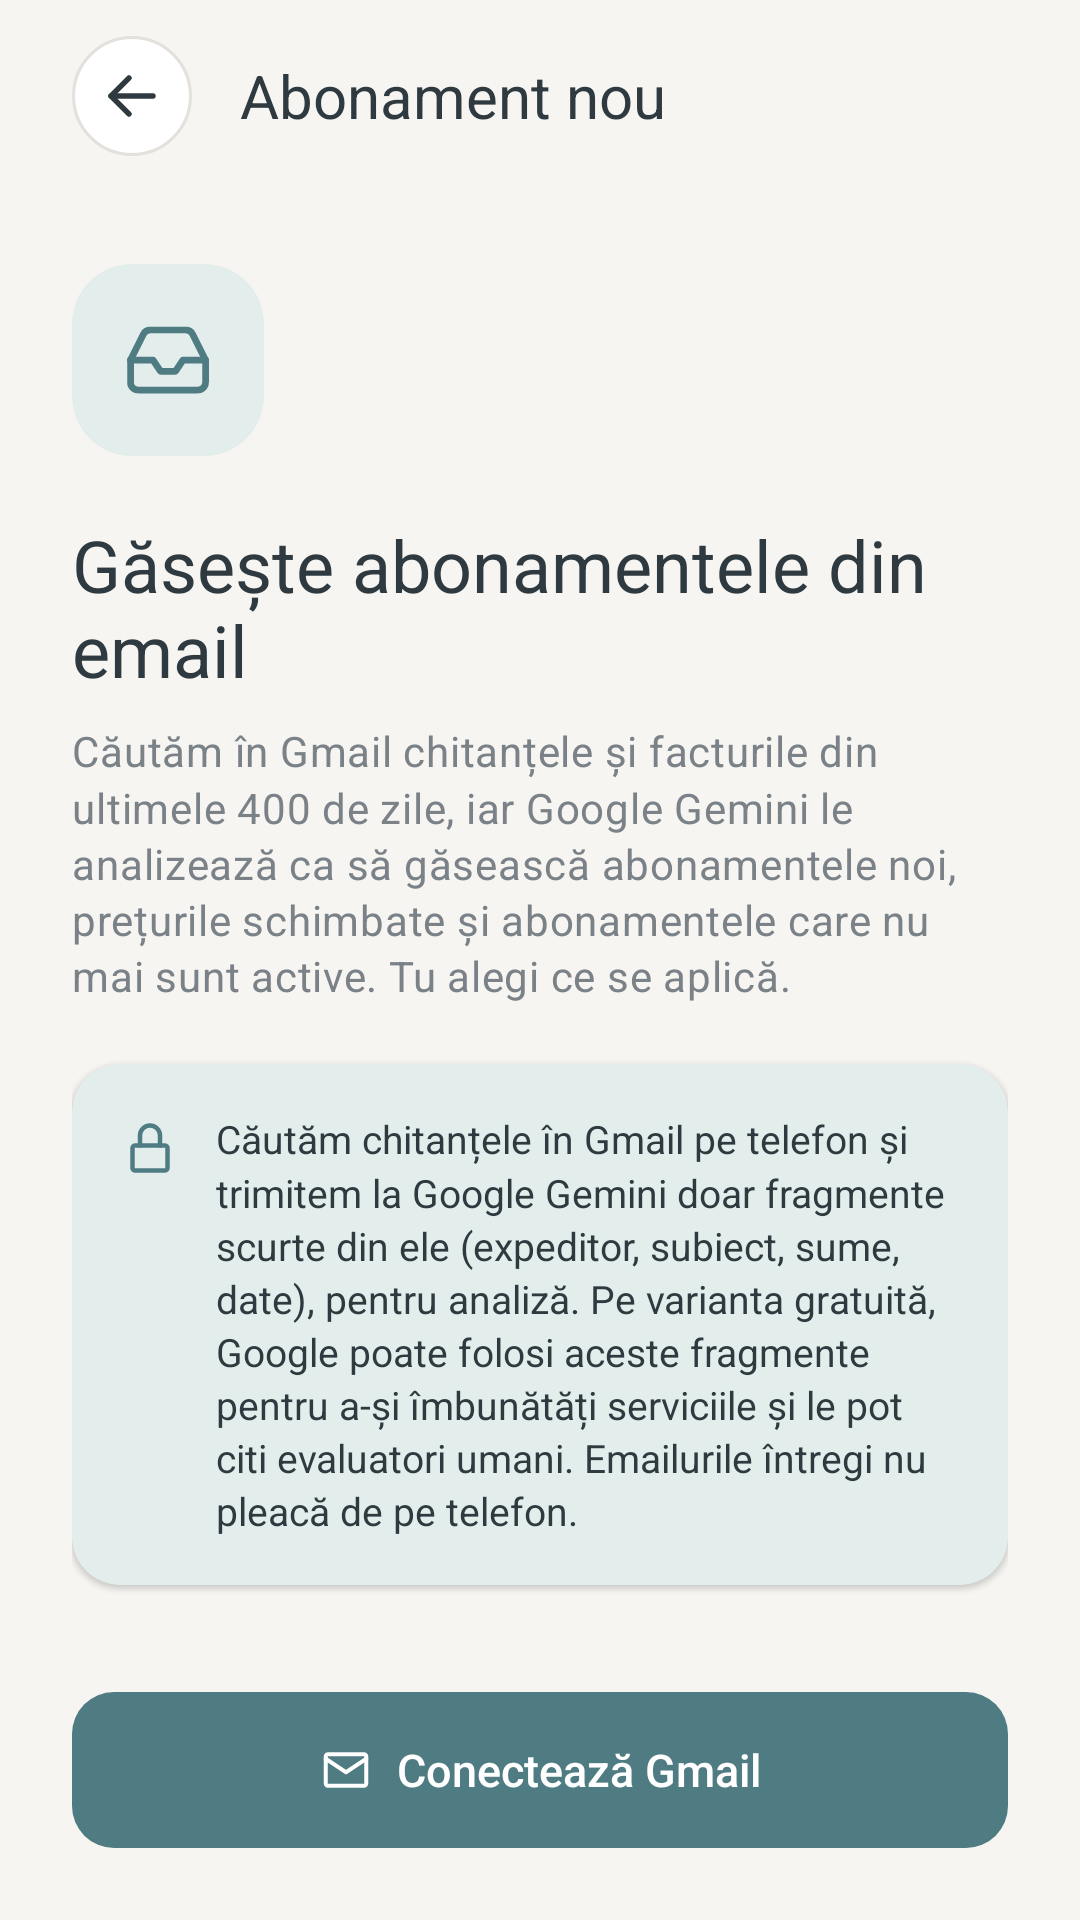

Icons on this 1080px×1920px Android screen, each with the point to tap as (x,y):
inbox: (168,360)
lock: (150,1148)
Înapoi: (132,96)
